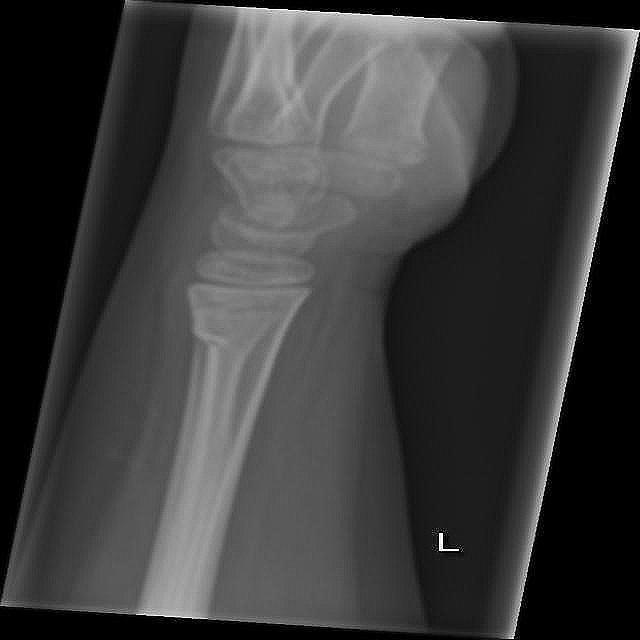bone: (186, 314, 286, 360)
